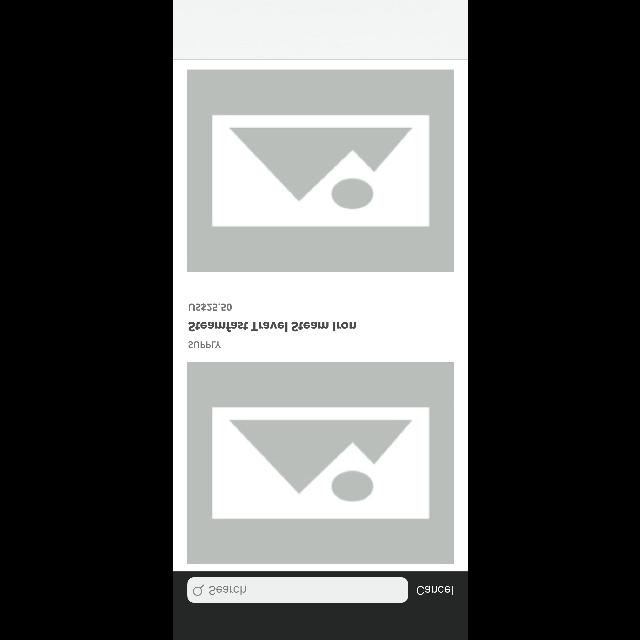icon: (192, 584, 204, 596)
image: (186, 68, 454, 272), (186, 361, 454, 565)
input: (186, 577, 408, 603)
text: (188, 322, 356, 332), (416, 585, 452, 595), (188, 303, 232, 311), (208, 586, 246, 594), (188, 342, 220, 348)
